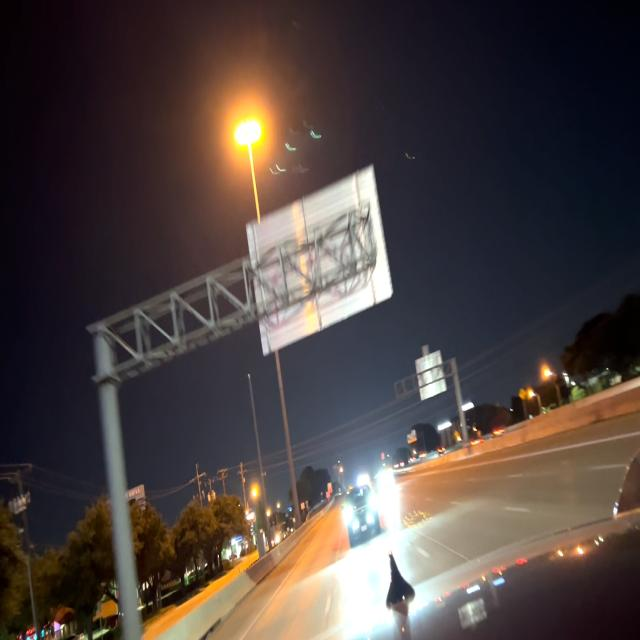back-of-sign: (247, 171, 393, 357), (415, 344, 446, 400)
